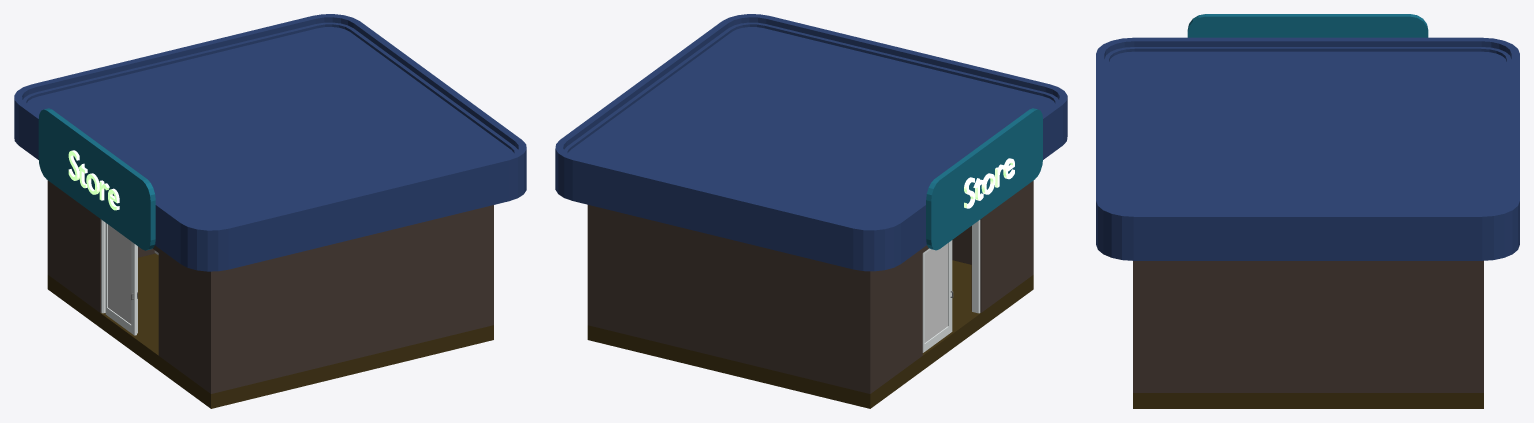
Rendered from Store (3).fbx.
3 renders of one model, left to right at view 1: azimuth 30°, elevation 25°; view 2: azimuth 150°, elevation 25°; view 3: azimuth 270°, elevation 25°, orthographic. The views are drawn at different scales.
Parts seen in each view (by area): view 1: Celling, Wall, Floor, Signboard, 16668_84x96_Slider_Door-Black_V1.001, Text, Door; view 2: Celling, Wall, Floor, Signboard, 16668_84x96_Slider_Door-Black_V1.001, Text, Door; view 3: Celling, Wall, Signboard, Floor.
Boxes of the visible parts, x1,y1,x2,y2 form: Celling: (14, 14, 526, 271); Wall: (47, 180, 493, 393); Floor: (47, 253, 493, 408); Signboard: (38, 108, 155, 250); 16668_84x96_Slider_Door-Black_V1.001: (105, 223, 137, 335); Text: (68, 150, 119, 210); Door: (101, 219, 137, 333); Celling: (555, 14, 1067, 271); Wall: (587, 180, 1033, 393); Floor: (587, 260, 1033, 408); Signboard: (926, 108, 1042, 250); 16668_84x96_Slider_Door-Black_V1.001: (922, 240, 953, 352); Text: (964, 158, 1014, 208); Door: (972, 220, 980, 313); Celling: (1096, 37, 1519, 260); Wall: (1133, 260, 1483, 392); Signboard: (1187, 14, 1428, 37); Floor: (1133, 393, 1483, 408).
Bounding box in the file's own units: 330 × 192 × 322.
11 materials, 3 textured.
